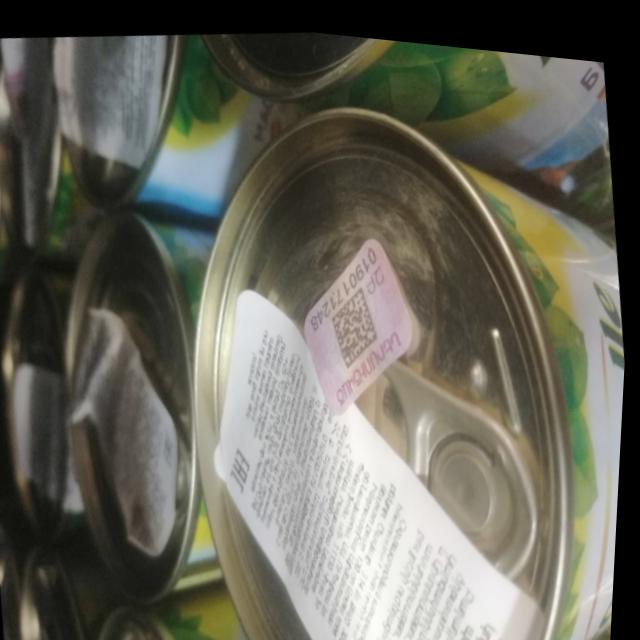datamatrix: (327, 273, 388, 367)
